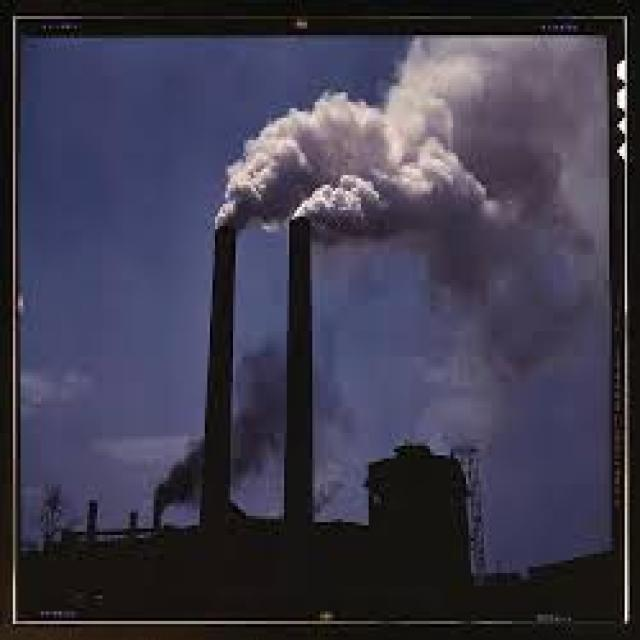Smoke: (229, 36, 612, 486), (167, 427, 208, 508)
